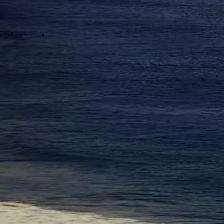surfer: (41, 33, 44, 37)
